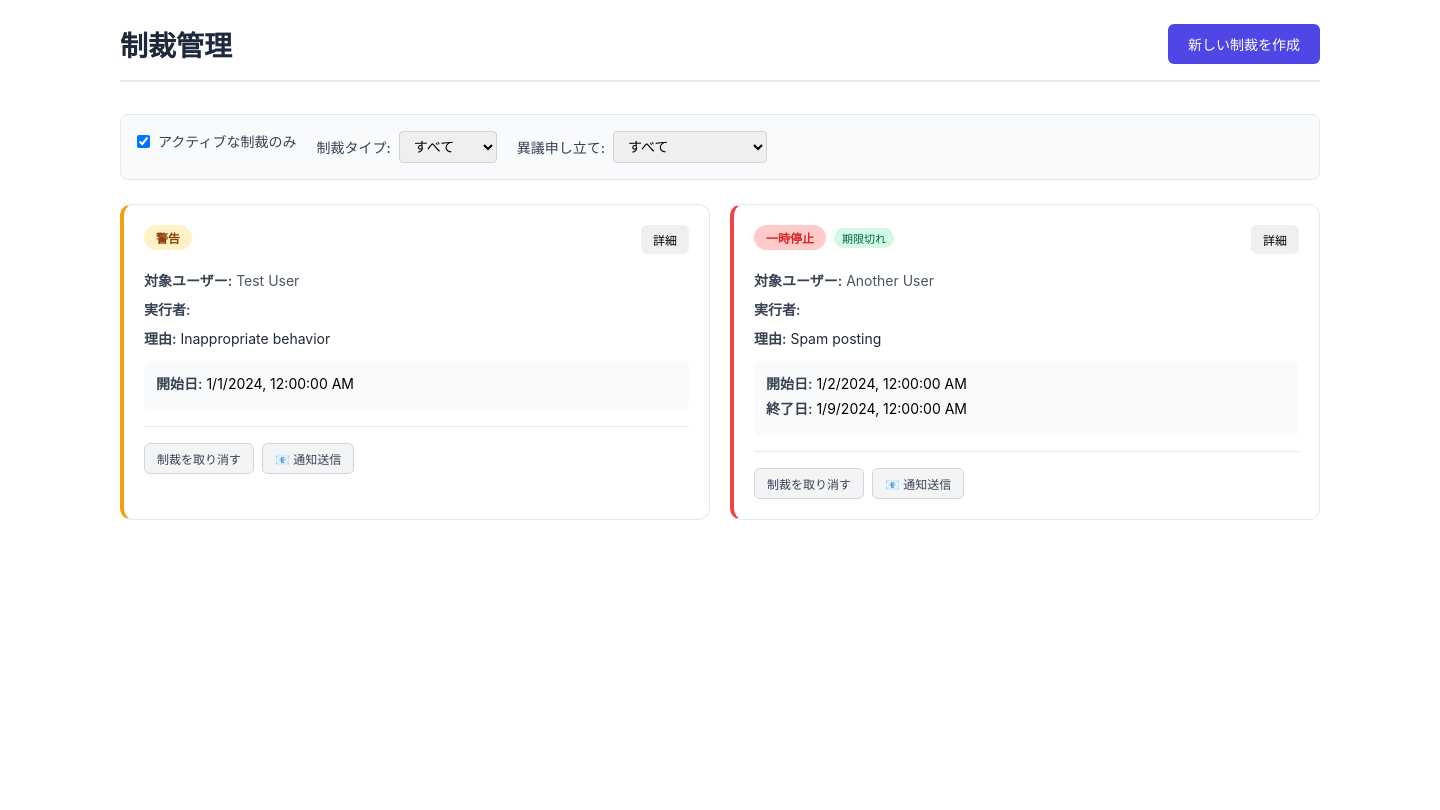
Test: UserSanctionManager › Error Handling › displays error message when action fails
Click the button "制裁を取り消す" below "1/1/2024, 12:00:00 AM" at (199, 458), box [144,443,254,474]
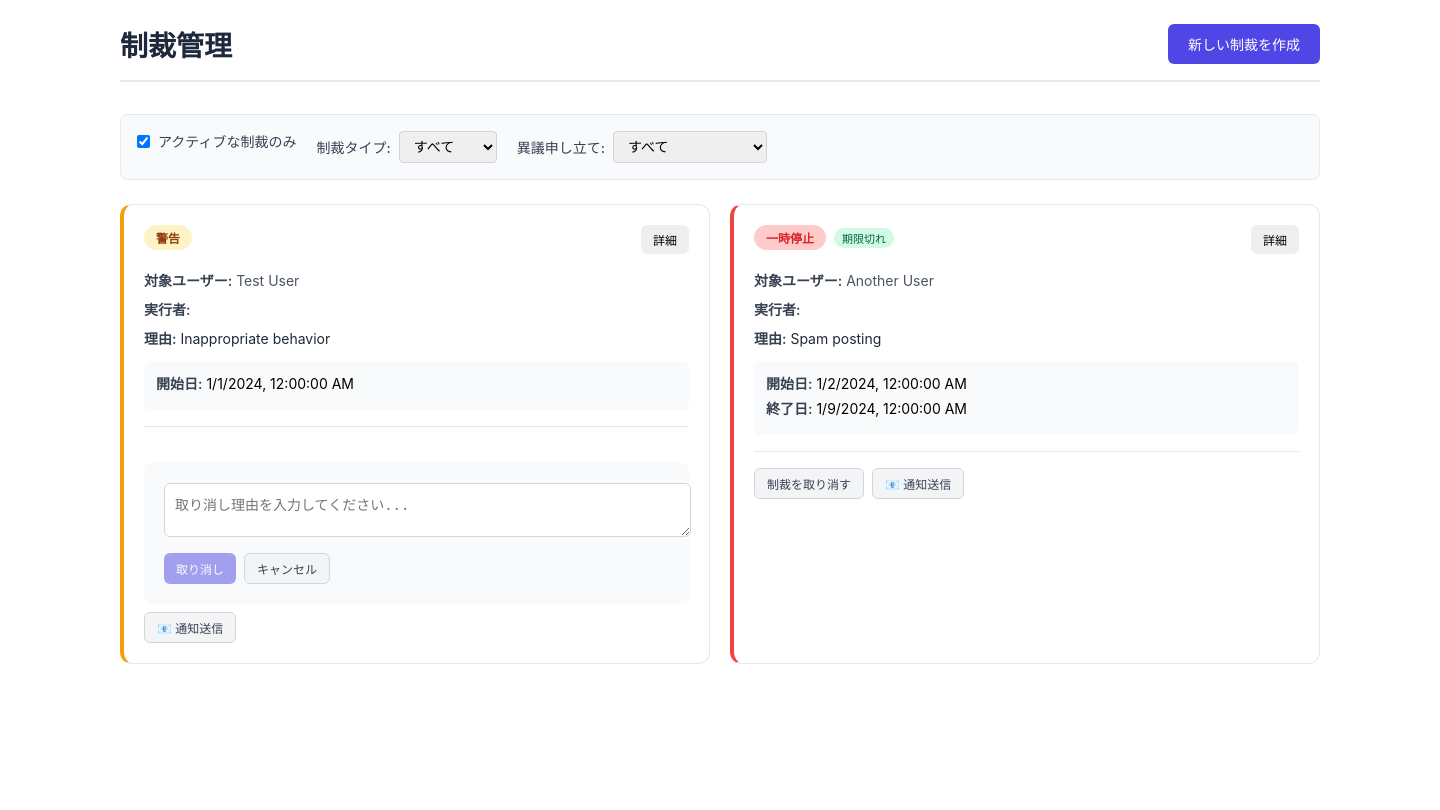
Type "Test reason" into the text box with placeholder "取り消し理由を入力してください..." at (428, 510), box [164,483,691,537]
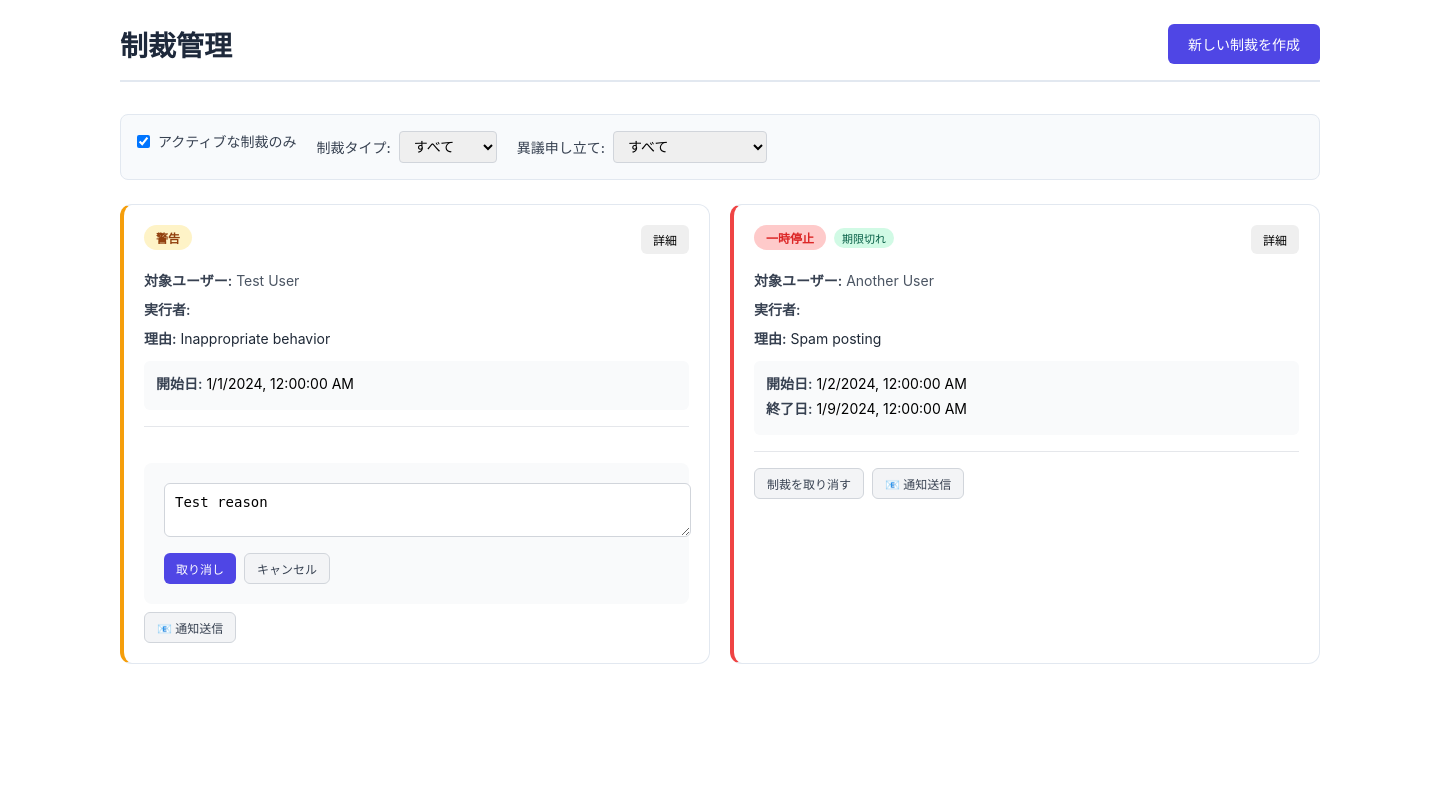
Click the button "取り消し" at (200, 568), box [164,553,236,584]
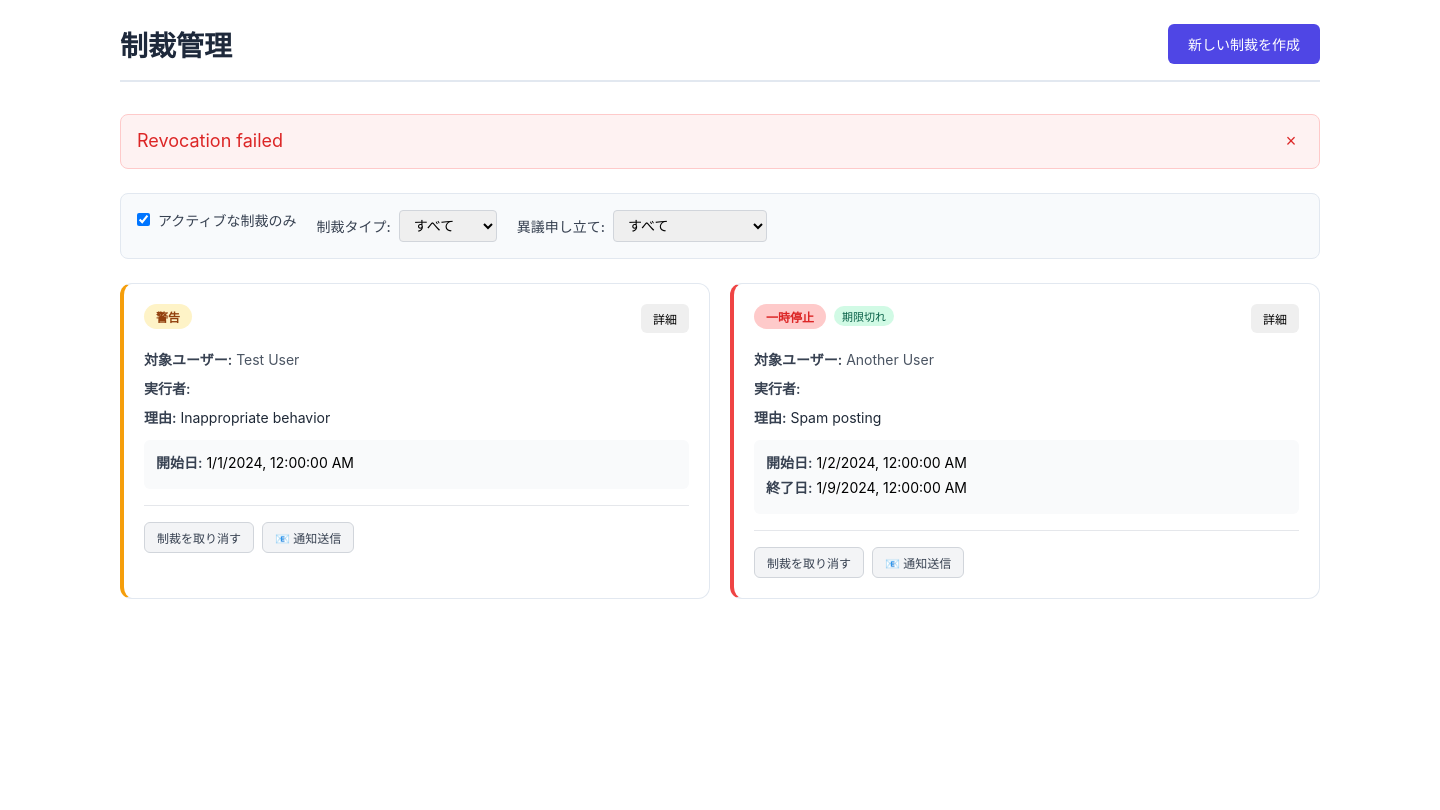
Expected: the text "Revocation failed" is shown, [137,130,283,151]
